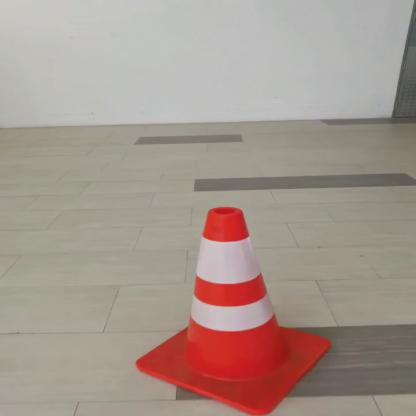cone: (125, 199, 338, 416)
